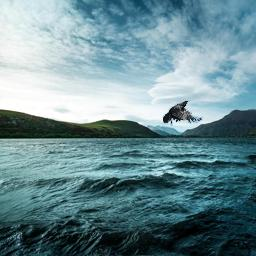Crow: (163, 100, 203, 126)
